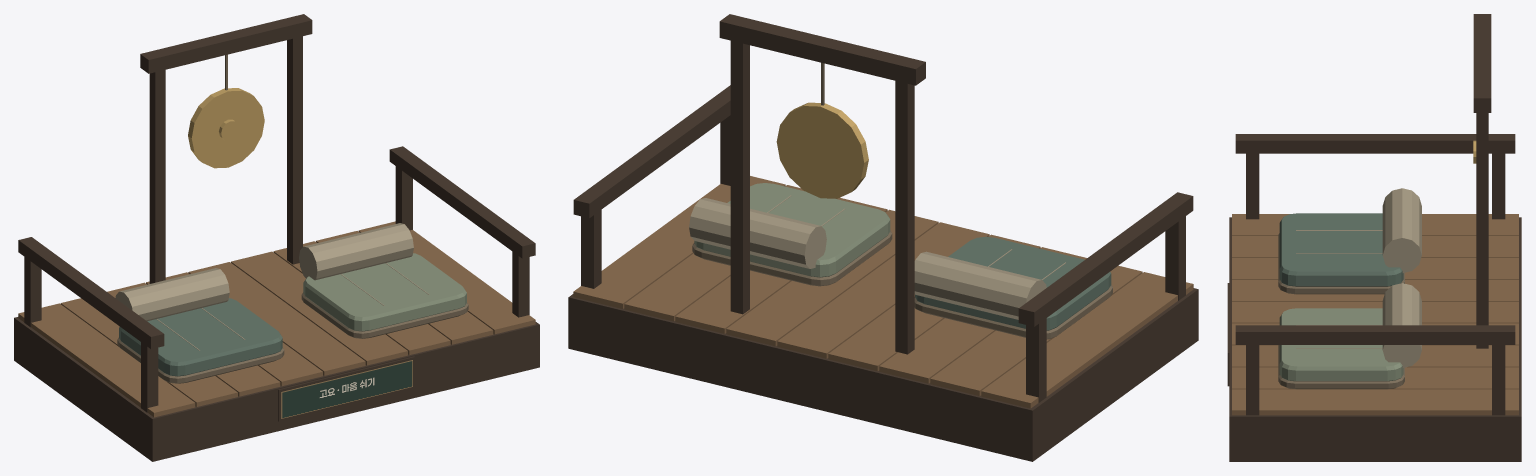
File: 09_Quiet_Meditation_Platform.fbx
The picture shows the model from 3 angles, left to right: view 1: azimuth 30°, elevation 25°; view 2: azimuth 150°, elevation 25°; view 3: azimuth 270°, elevation 25°; orthographic projection. The views are drawn at different scales.
Visible parts, largest first — view 1: 09_Quiet_Meditation_Platform__Structure, 09_Quiet_Meditation_Platform, 09_Quiet_Meditation_Platform__Bell_Stand; view 2: 09_Quiet_Meditation_Platform__Structure, 09_Quiet_Meditation_Platform, 09_Quiet_Meditation_Platform__Bell_Stand; view 3: 09_Quiet_Meditation_Platform__Structure, 09_Quiet_Meditation_Platform, 09_Quiet_Meditation_Platform__Bell_Stand.
Part boxes in pixels (x1,y1,x2,y2): 09_Quiet_Meditation_Platform__Structure: (14,146,539,461); 09_Quiet_Meditation_Platform: (115,223,468,383); 09_Quiet_Meditation_Platform__Bell_Stand: (140,14,312,283); 09_Quiet_Meditation_Platform__Structure: (568,85,1198,461); 09_Quiet_Meditation_Platform: (689,183,1112,339); 09_Quiet_Meditation_Platform__Bell_Stand: (719,14,925,354); 09_Quiet_Meditation_Platform__Structure: (1227,134,1521,461); 09_Quiet_Meditation_Platform: (1278,188,1421,389); 09_Quiet_Meditation_Platform__Bell_Stand: (1473,14,1491,348).
Size of the model in its own units: 265 by 189 by 165.
2 materials, 2 textured.
